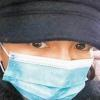mask: (2, 49, 99, 100)
